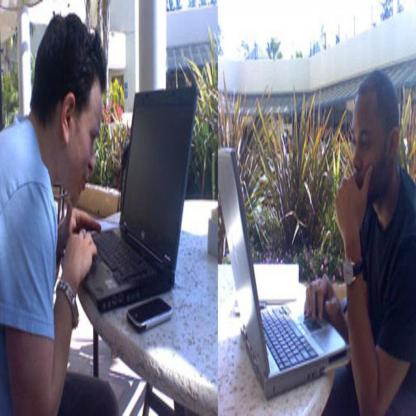board: (219, 150, 349, 397), (80, 85, 198, 311)
